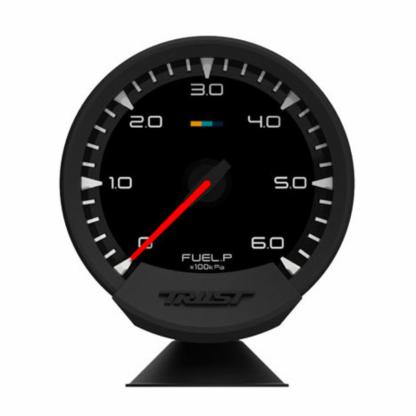needle: (128, 177, 214, 262)
